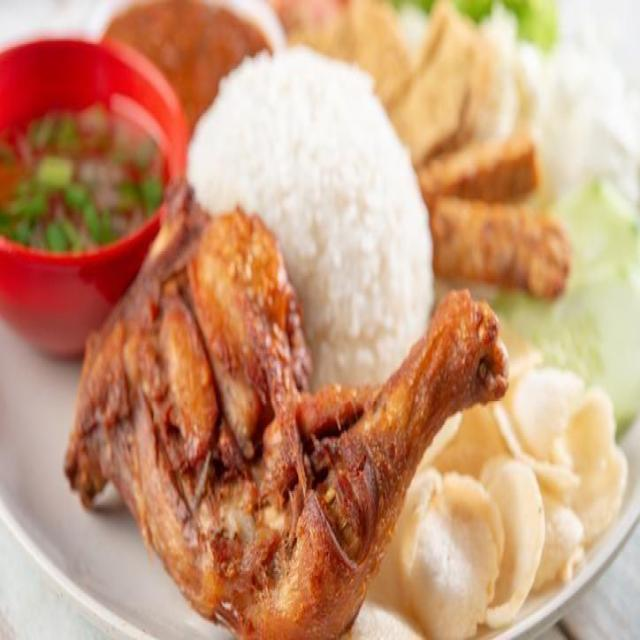ayam_goreng: (63, 180, 516, 604)
